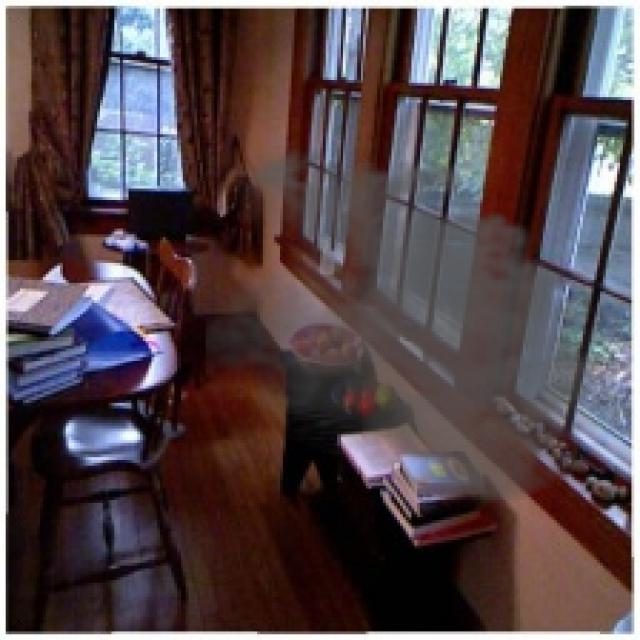smoke: (205, 137, 626, 512)
